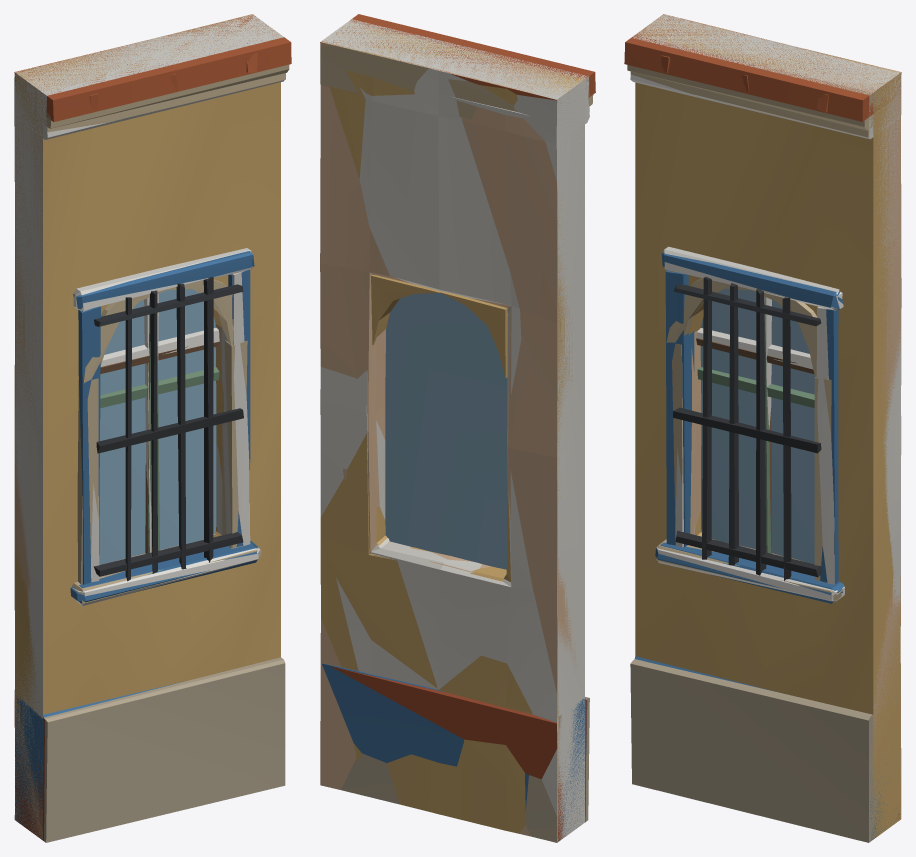
File: wall.window.glb
3 renders of one model, left to right at view 1: azimuth 30°, elevation 25°; view 2: azimuth 150°, elevation 25°; view 3: azimuth 330°, elevation 25°, orthographic.
Parts seen in each view (by area): view 1: wall.window.v1.mesh, wall.window.v0.mesh, wall.window.v2.mesh; view 2: wall.window.v0.mesh, wall.window.v2.mesh, wall.window.v1.mesh; view 3: wall.window.v1.mesh, wall.window.v0.mesh, wall.window.v2.mesh.
Boxes of the visible parts, x1=… form: wall.window.v1.mesh: x1=14, y1=14, x2=291, y2=842; wall.window.v0.mesh: x1=14, y1=15, x2=283, y2=836; wall.window.v2.mesh: x1=14, y1=14, x2=289, y2=840; wall.window.v0.mesh: x1=320, y1=19, x2=589, y2=842; wall.window.v2.mesh: x1=320, y1=18, x2=593, y2=841; wall.window.v1.mesh: x1=320, y1=14, x2=595, y2=842; wall.window.v1.mesh: x1=624, y1=14, x2=900, y2=842; wall.window.v0.mesh: x1=633, y1=14, x2=901, y2=839; wall.window.v2.mesh: x1=627, y1=15, x2=901, y2=825.
Size of the model in its own units: 0.9999 by 3 by 0.2927.
